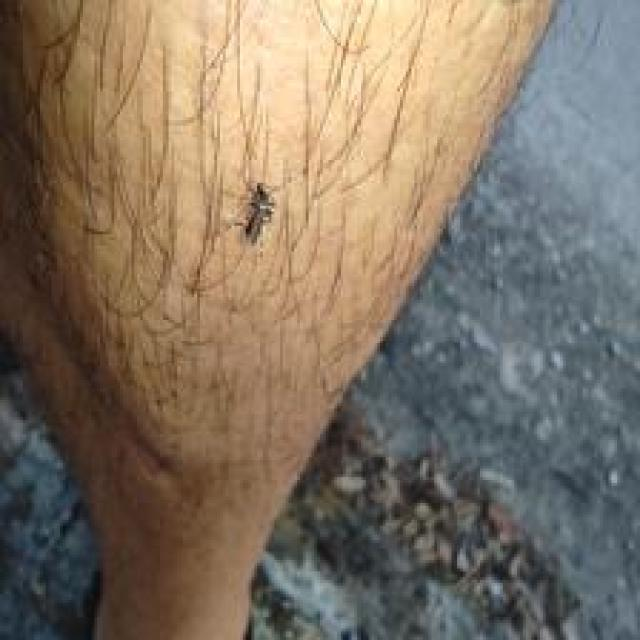Aedes albopictus: (238, 182, 276, 244)
